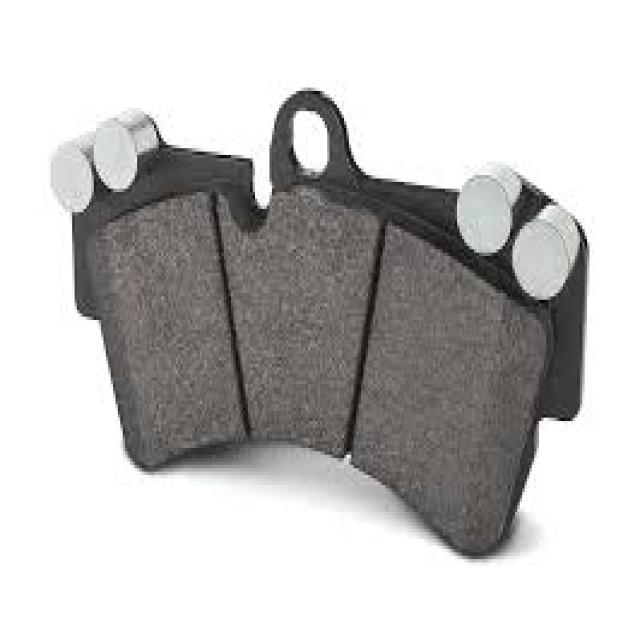brake_pad: (48, 76, 596, 573)
